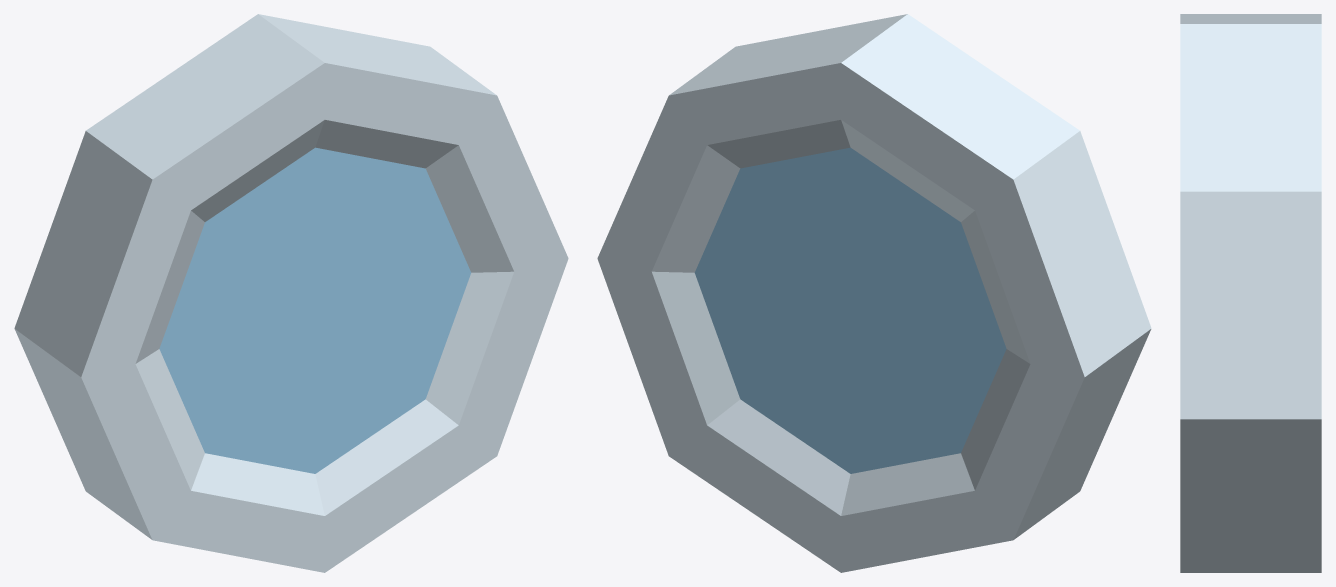
Rendered from Coin.fbx.
3 renders of one model, left to right at view 1: azimuth 30°, elevation 25°; view 2: azimuth 150°, elevation 25°; view 3: azimuth 270°, elevation 25°, orthographic. The views are drawn at different scales.
Parts seen in each view (by area): view 1: GoldCoin; view 2: GoldCoin; view 3: GoldCoin.
Part boxes in pixels (<box>): GoldCoin: <box>14,14,568,572</box>; GoldCoin: <box>597,14,1151,572</box>; GoldCoin: <box>1180,14,1321,572</box>.
Size of the model in its own units: 0.3908 by 0.3908 by 0.0928.
